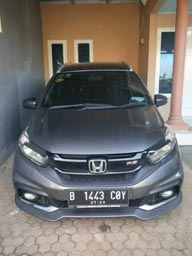plat: (66, 190, 129, 201)
